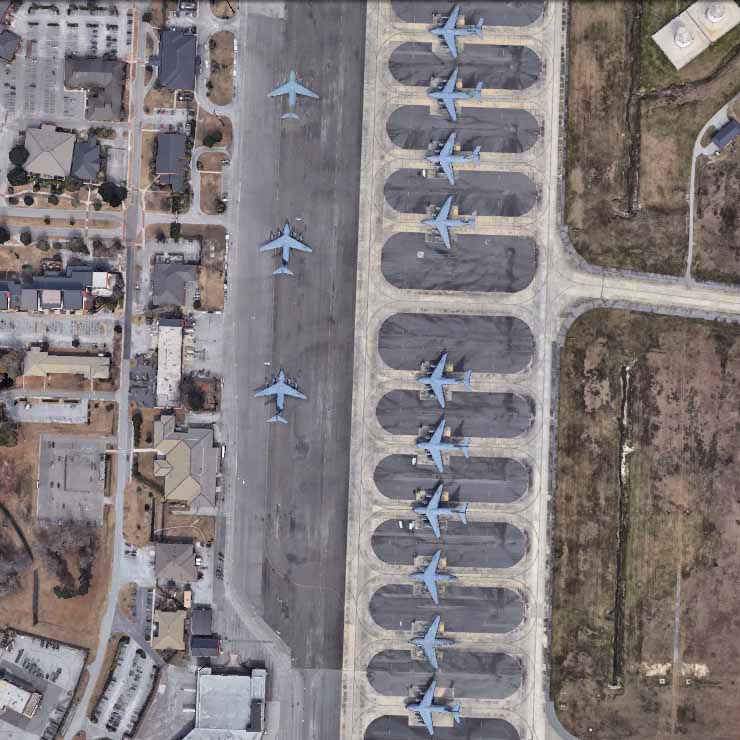A3: (398, 614, 466, 676), (399, 546, 463, 605), (414, 350, 474, 409), (414, 419, 473, 479), (404, 678, 461, 736), (252, 367, 308, 425), (259, 219, 315, 276), (412, 483, 468, 540), (419, 194, 477, 249), (427, 67, 483, 123), (428, 130, 484, 186), (430, 6, 486, 58), (268, 68, 319, 122)
